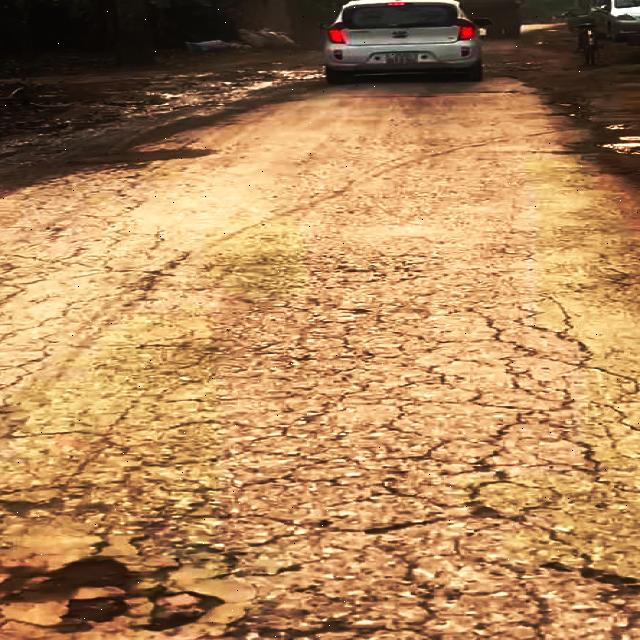pothole: (0, 551, 213, 637)
